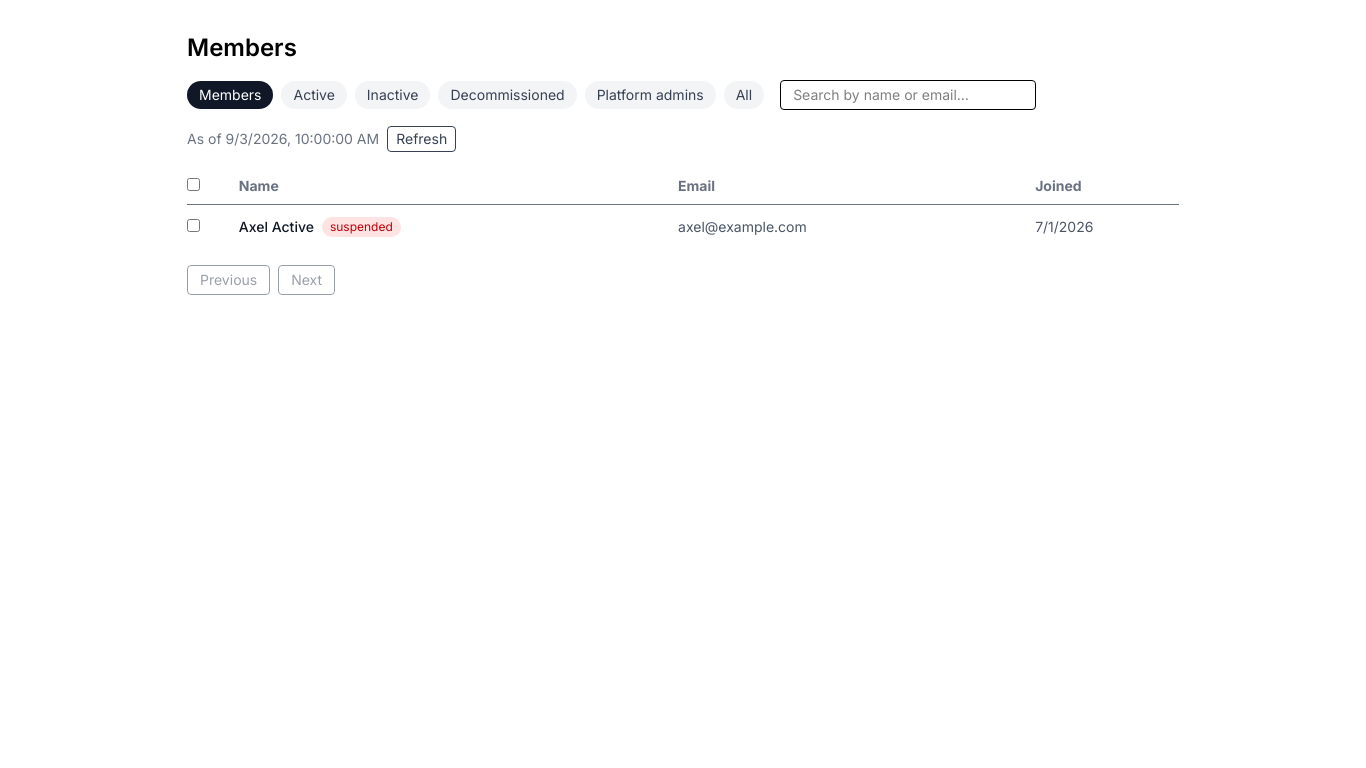
Scenario: AdminMembersList — the bulk hold ceremony carries one reason (FEAT-H049, bulk gap) › bulk-reactivate: reason field "Shown to each member", Confirm gated, POST { user_ids, reason }
Step 1. Click the checkbox named "Select Axel Active" → (194, 226), box [187,219,200,232]
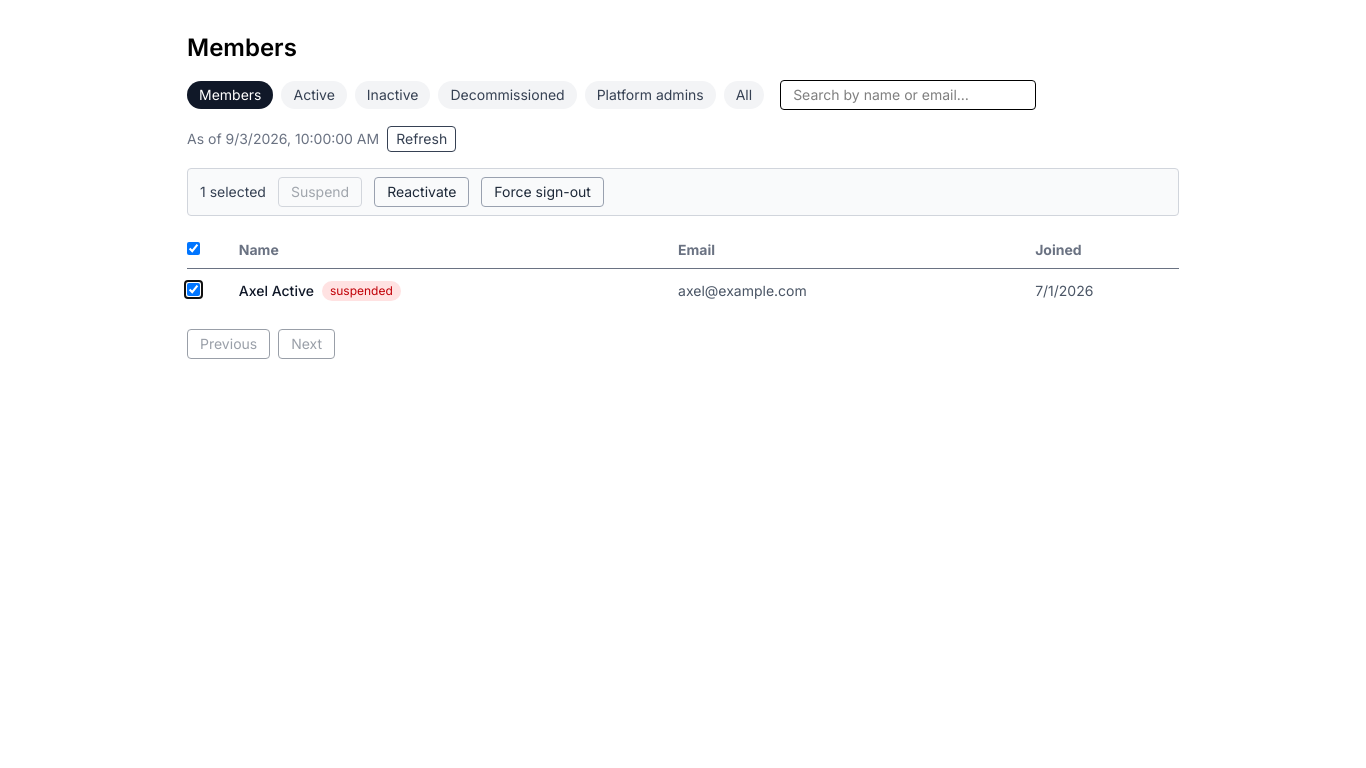
Step 2. Click the button with test id "bulk-reactivate" → (422, 192), box [374,177,469,207]
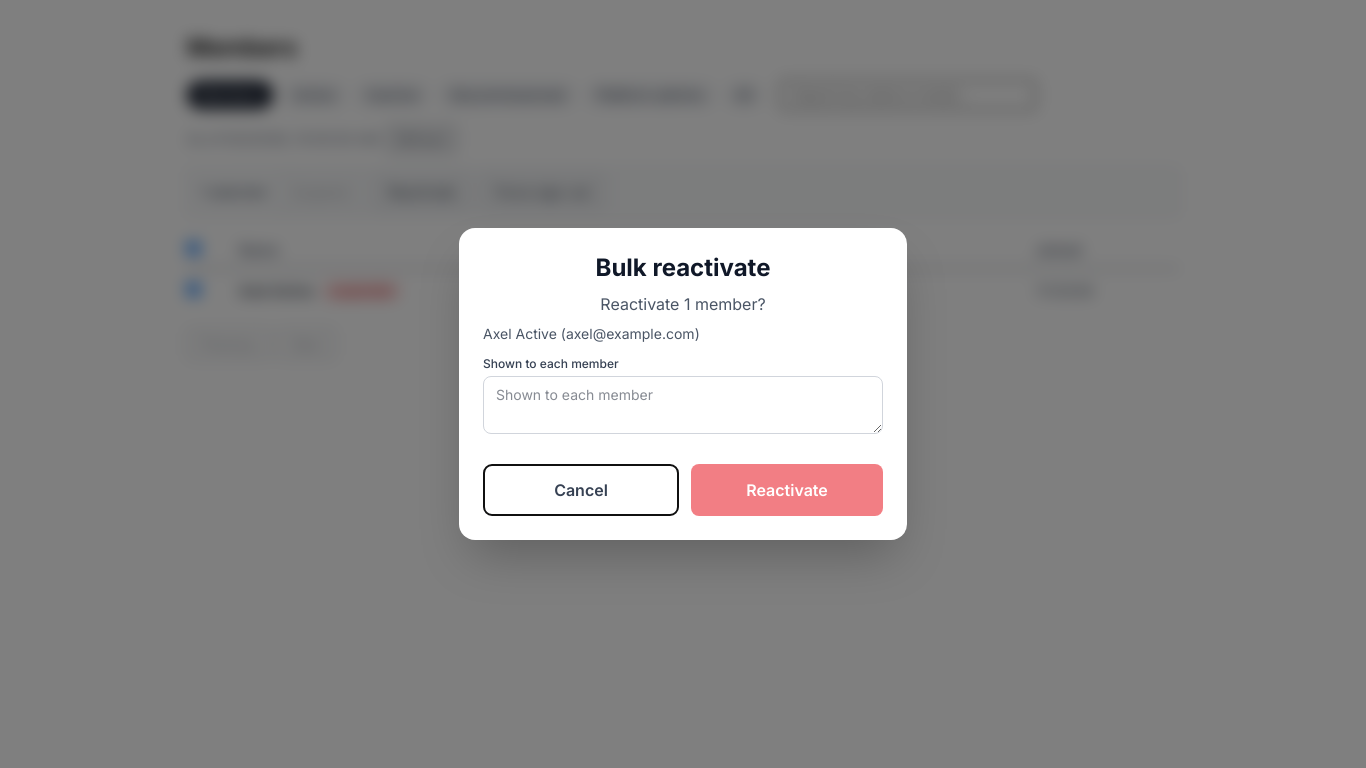
expect the button with test id "confirm-modal-confirm" is disabled: met, box [691,464,883,516]
Step 3. Type "Batch hold" into the text box with test id "ceremony-reason" → (683, 405), box [483,376,883,434]
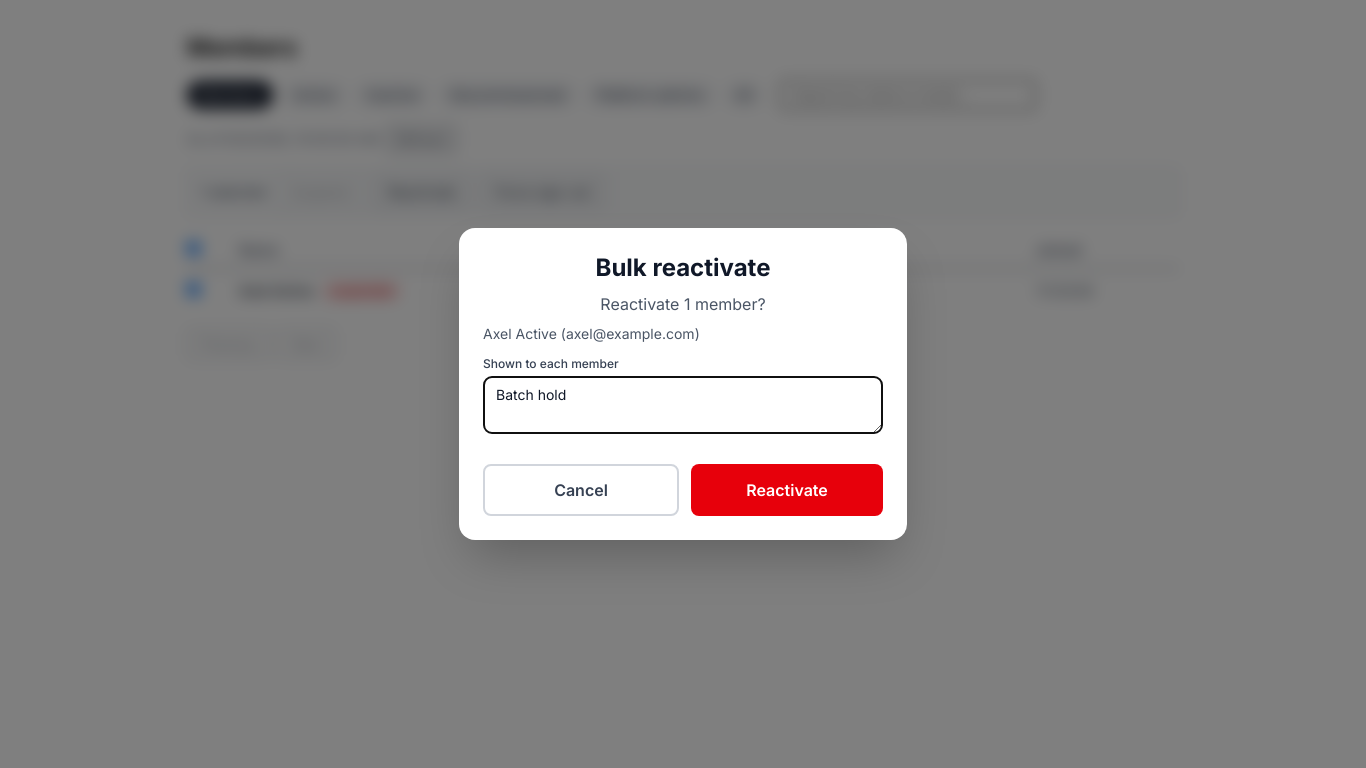
expect the button with test id "confirm-modal-confirm" is enabled: met
Step 4. Click the button with test id "confirm-modal-confirm" → (787, 490), box [691,464,883,516]
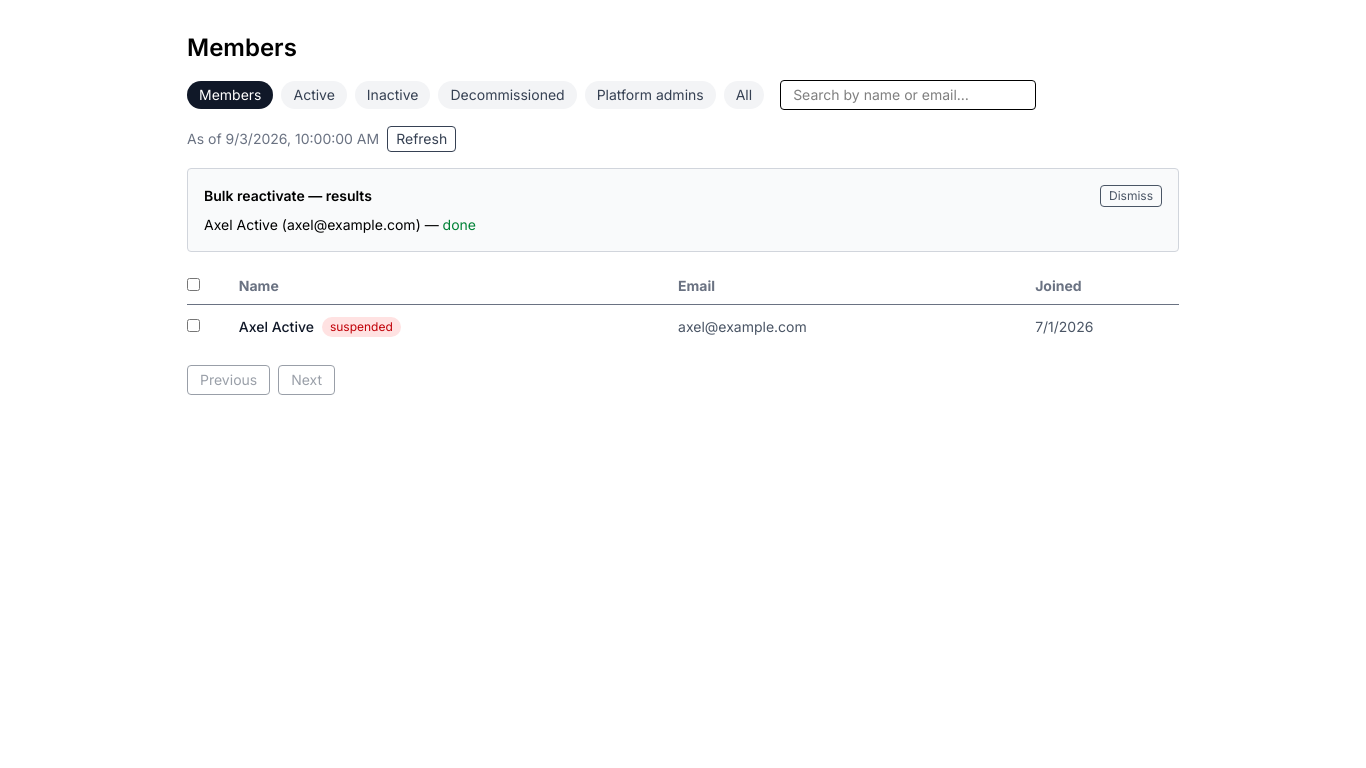
expect the element with test id "bulk-outcomes" is shown: met, box [187,168,1179,252]
